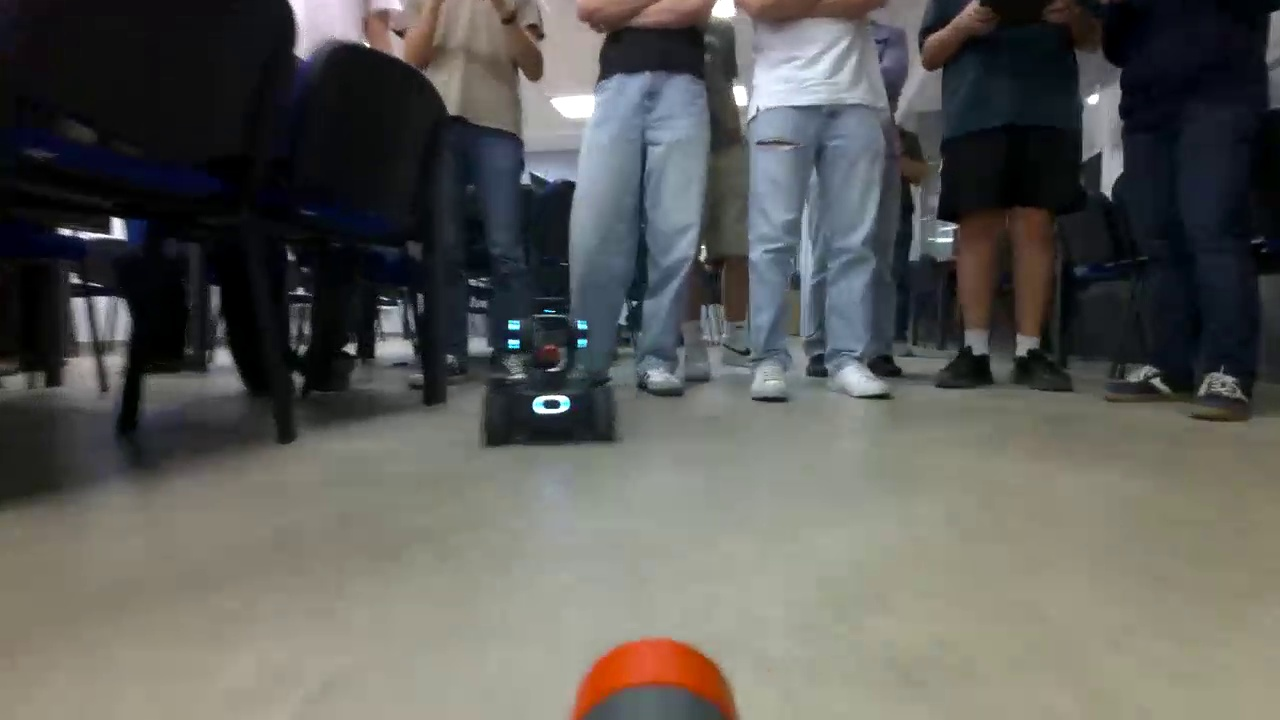robot: (483, 295, 618, 450)
